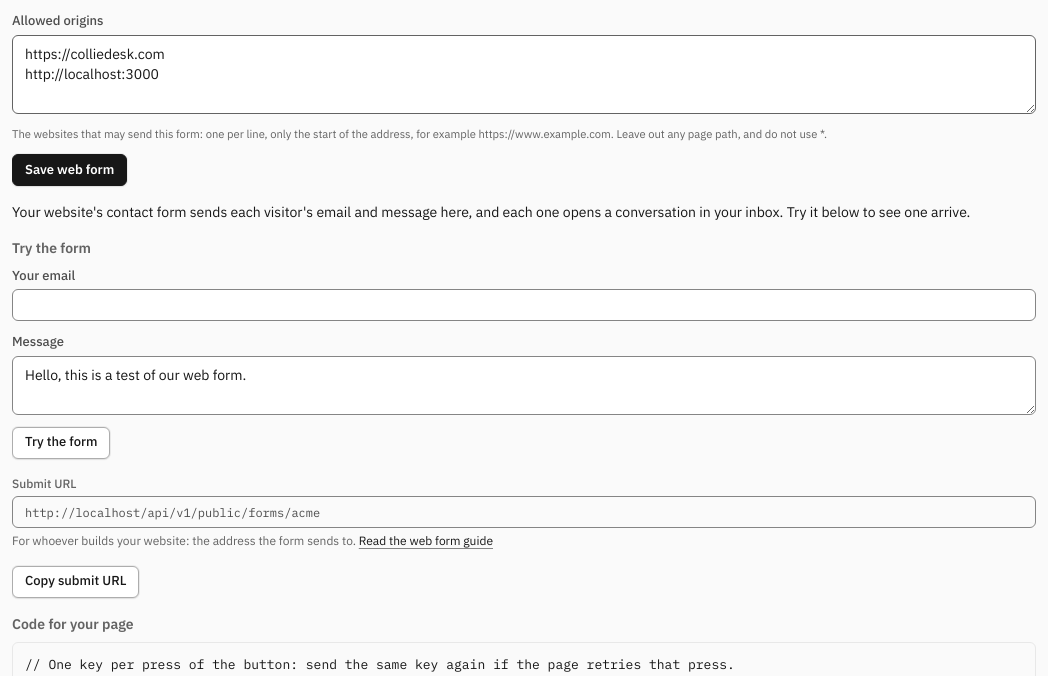
it: a tried form that is refused says why
Type "nope" into the field labelled "Your email" at {"x": 524, "y": 305}, box [12,289,1036,321]
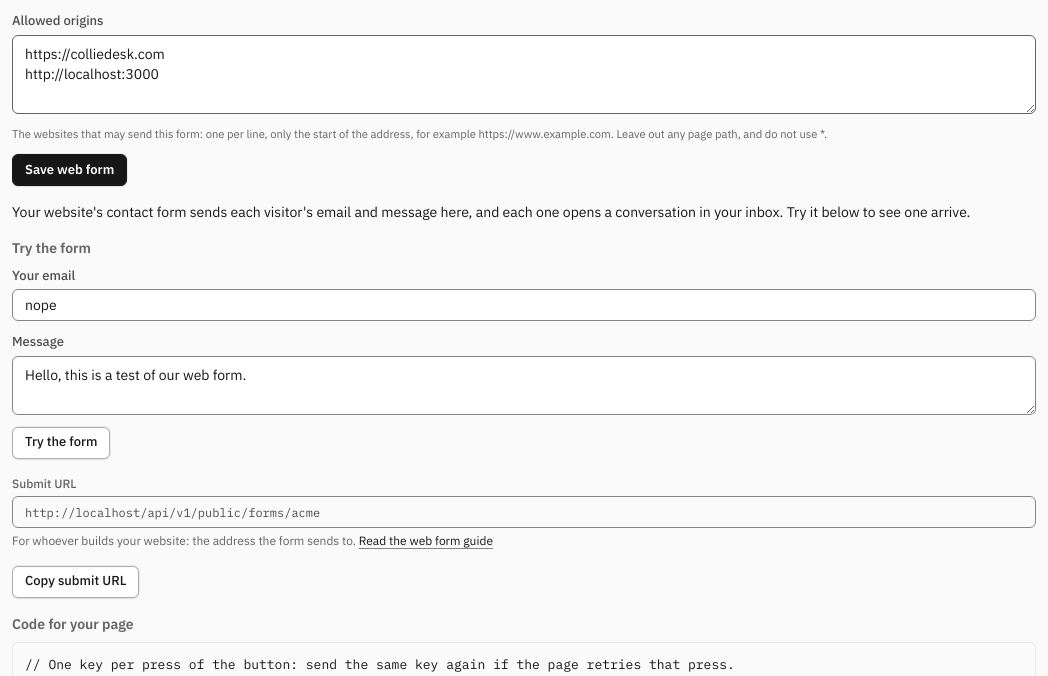
Click the button "Try the form" at {"x": 61, "y": 443}, box [12,427,110,459]
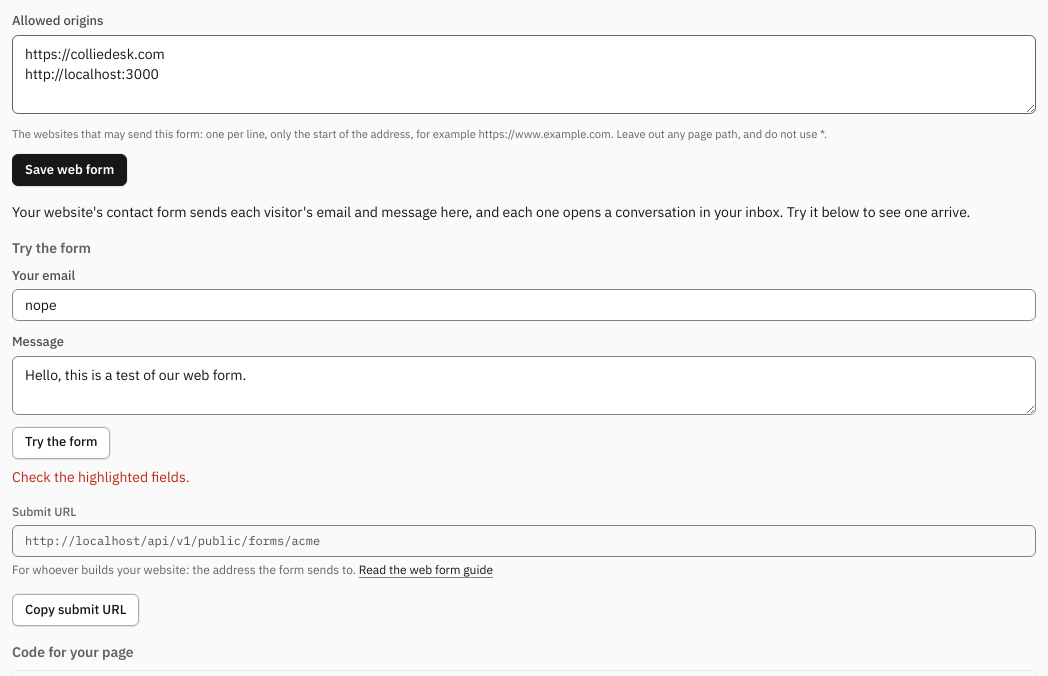
Now the message reads "Check the highlighted fields.", box [12,468,189,486]
